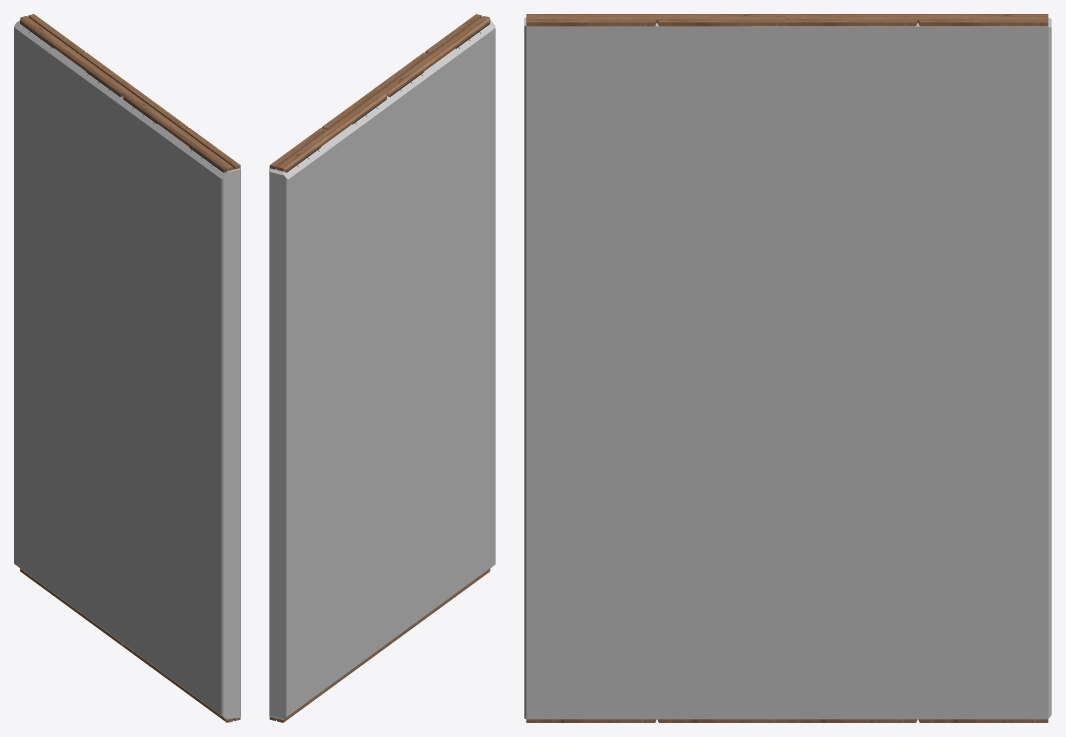
Rendered from SM_HBJ_DoorB.fbx.
3 views of the same model, side by side, from view 1: azimuth 30°, elevation 25°; view 2: azimuth 150°, elevation 25°; view 3: azimuth 270°, elevation 25° (orthographic). The views are drawn at different scales.
Visible parts, largest first — view 1: SM_HBJ_DoorB_ConvexHulls, SM_HBJ_DoorB; view 2: SM_HBJ_DoorB_ConvexHulls, SM_HBJ_DoorB; view 3: SM_HBJ_DoorB_ConvexHulls, SM_HBJ_DoorB.
Boxes of the visible parts, bbox=[...] form: SM_HBJ_DoorB_ConvexHulls: bbox=[14, 20, 240, 719]; SM_HBJ_DoorB: bbox=[20, 14, 240, 722]; SM_HBJ_DoorB_ConvexHulls: bbox=[269, 19, 495, 719]; SM_HBJ_DoorB: bbox=[269, 14, 490, 722]; SM_HBJ_DoorB_ConvexHulls: bbox=[524, 17, 1051, 719]; SM_HBJ_DoorB: bbox=[526, 14, 1048, 722].
Bounding box in the file's own units: 5.98 × 109 × 160.
2 materials, 1 textured.
